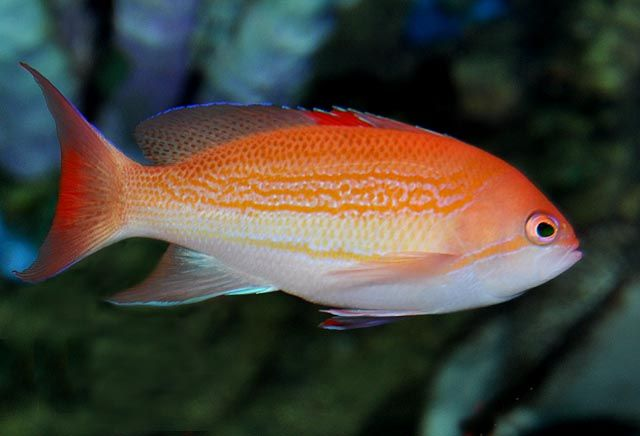fish: (19, 63, 584, 331)
